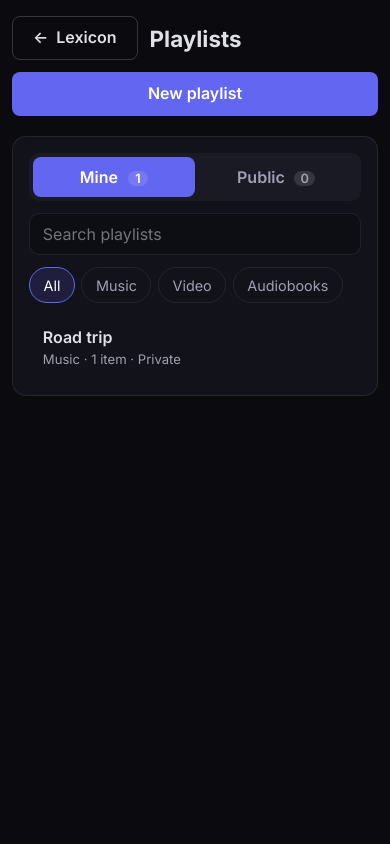
Test case: only media of the playlist type is offered, and what is already in it cannot be added again
The width and height of the screenshot is (390, 844).
Click the button "Road trip Music · 1 item · Private" at coordinates (78, 337), box [29, 315, 361, 379]
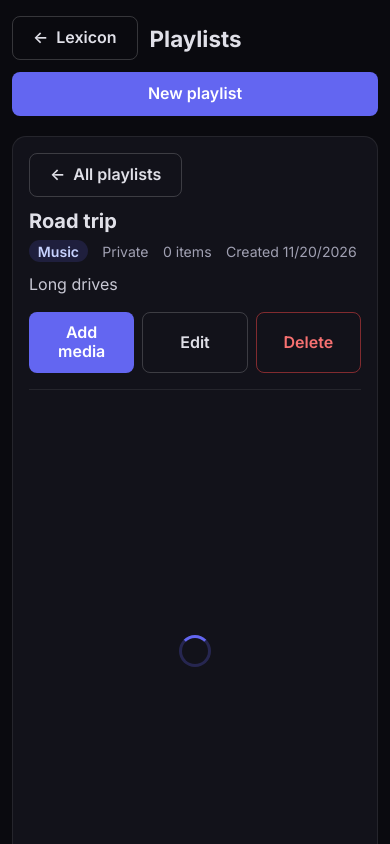
Click the button "Add media" at coordinates (82, 342), box [29, 312, 134, 373]
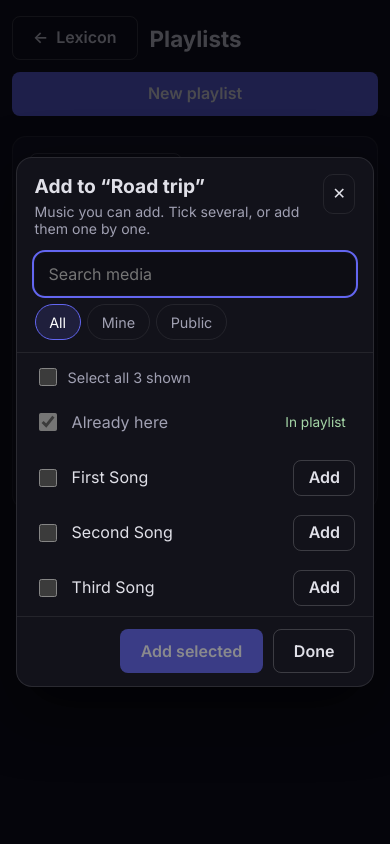
Result: the text "Second Song" is shown at [72, 522, 173, 544]
Result: the checkbox labelled "Already here" is disabled at [39, 414, 57, 432]
